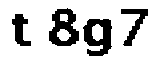7: (119, 3, 150, 48)
8: (44, 1, 81, 48)
g: (83, 17, 116, 58)
t: (5, 9, 33, 53)
